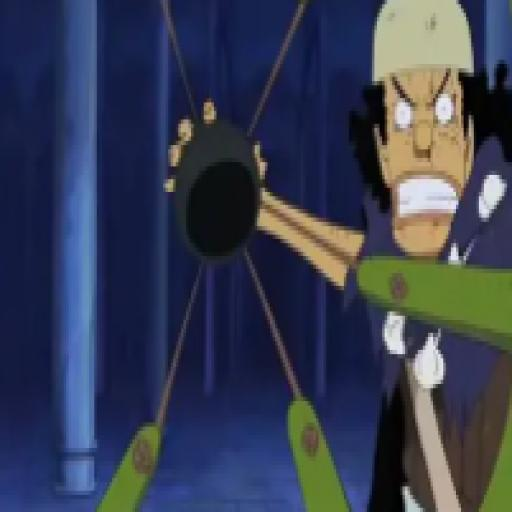Usopp: (160, 0, 512, 512)
